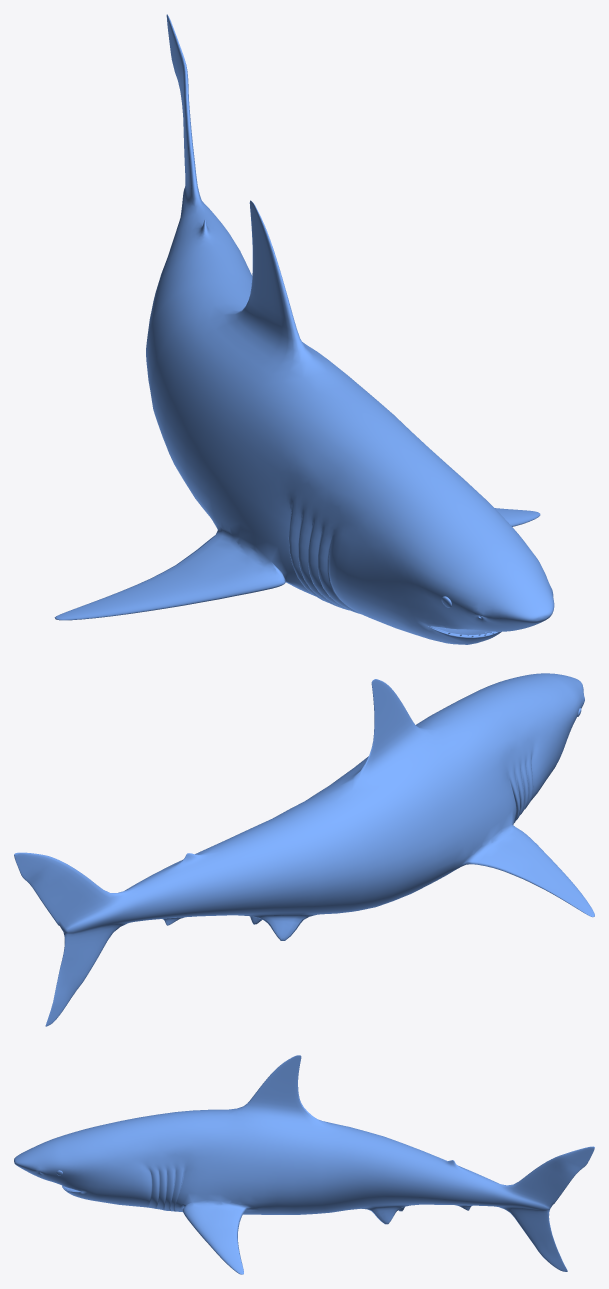
Rendered from WhiteShark.obj.
3 renders of one model, top to bottom at view 1: azimuth 30°, elevation 25°; view 2: azimuth 150°, elevation 25°; view 3: azimuth 270°, elevation 25°, orthographic. The views are drawn at different scales.
Parts seen in each view (by area): view 1: object 2; view 2: object 2; view 3: object 2.
Part boxes in pixels (x1=…): object 2: x1=54, y1=14, x2=554, y2=644; object 2: x1=14, y1=673, x2=594, y2=1026; object 2: x1=14, y1=1055, x2=594, y2=1274.
Size of the model in its own units: 4.52 by 3.03 by 9.39.
